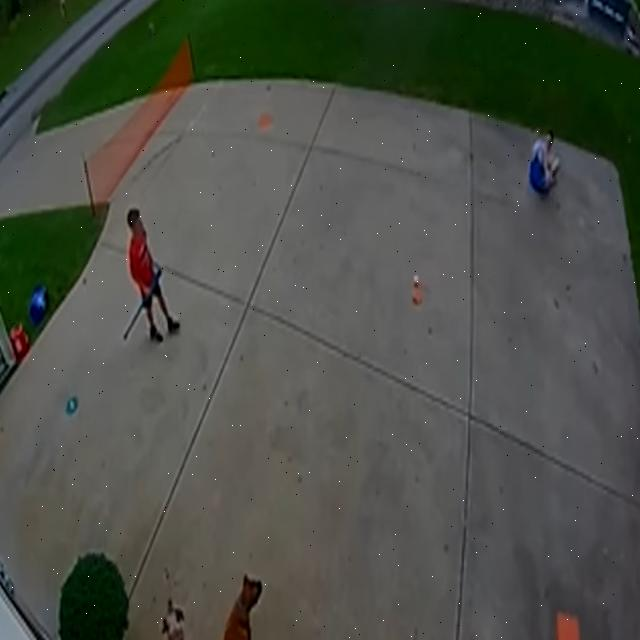fallen: (529, 130, 560, 195)
standing: (127, 208, 180, 342)
